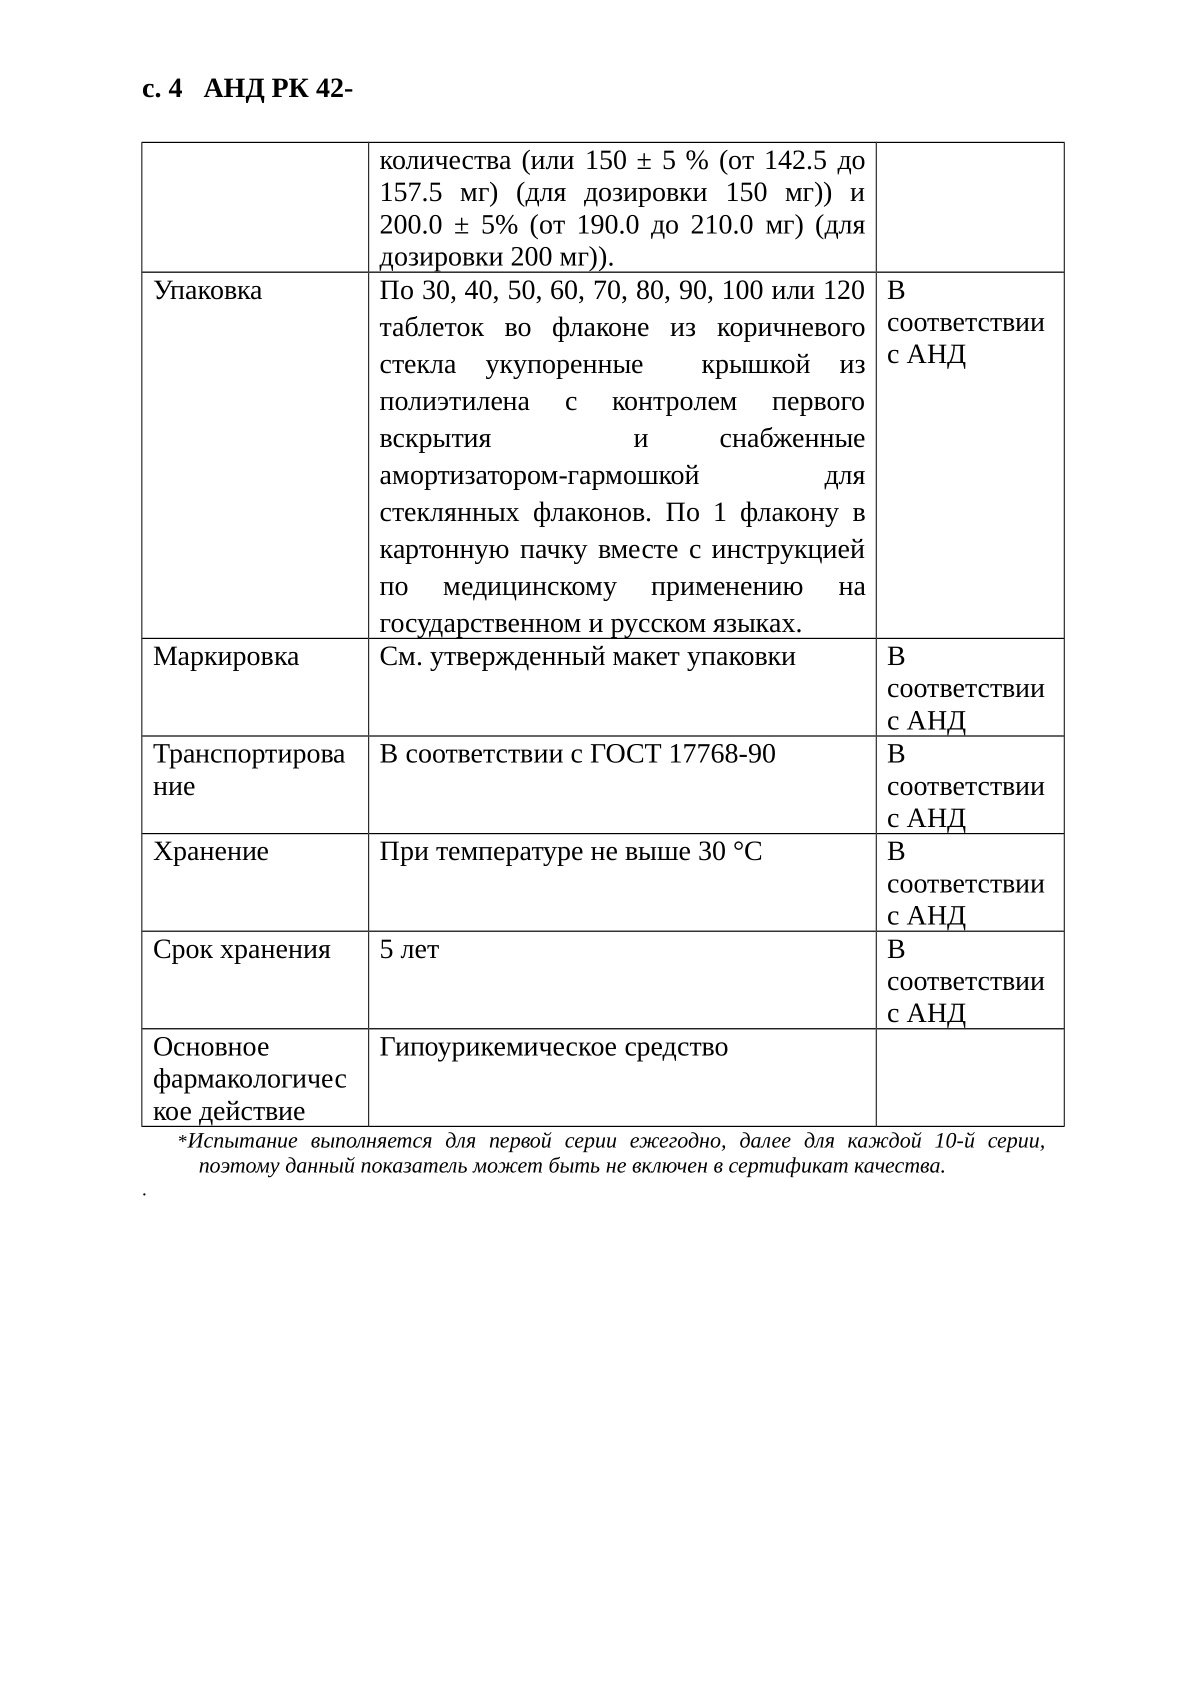full_lined: (130, 129, 1081, 1136)
